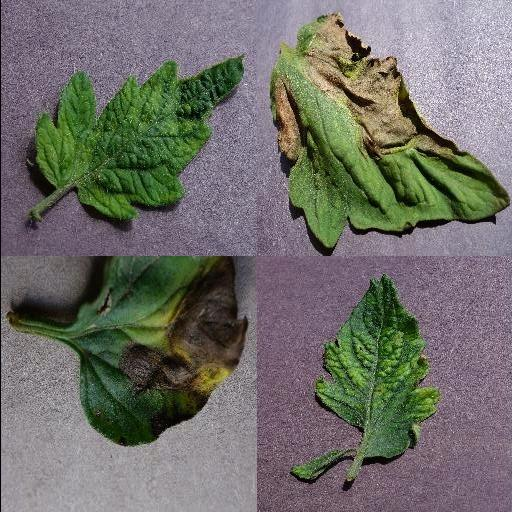Early Blight: (75, 259, 247, 447)
Late Blight: (269, 13, 511, 249)
Mosaic Virus: (33, 51, 247, 219), (311, 272, 445, 458), (285, 448, 349, 484)
